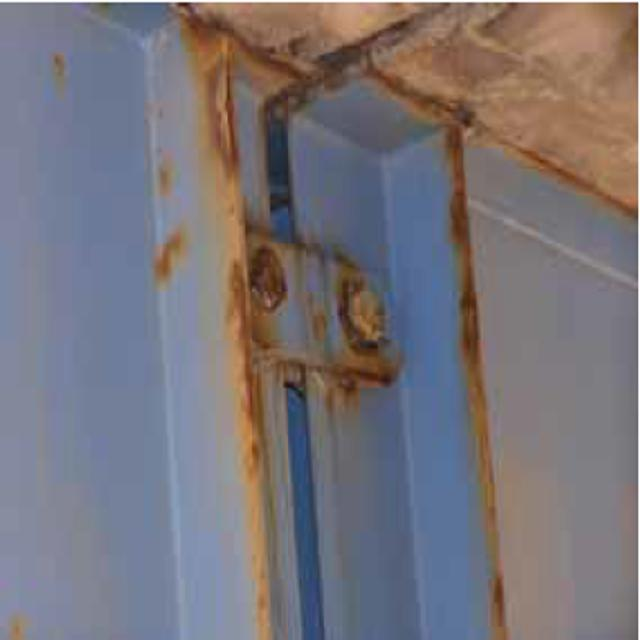corrosion: (171, 17, 513, 616)
